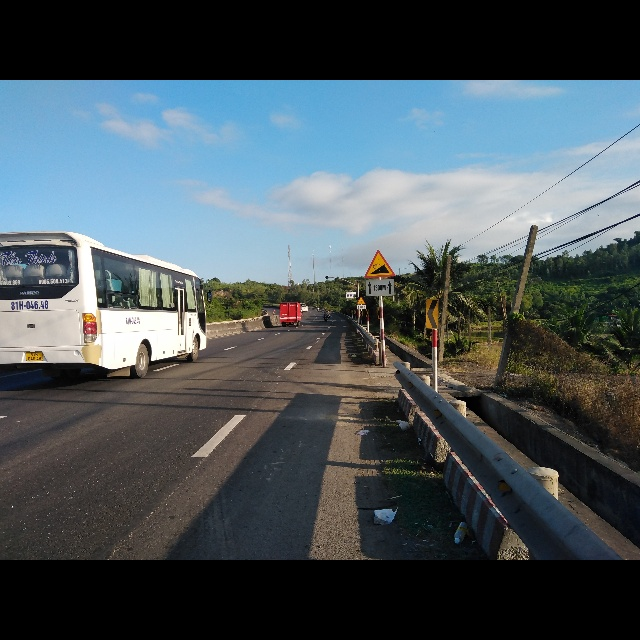Dốc lên nguy hiểm: (363, 247, 395, 277)
